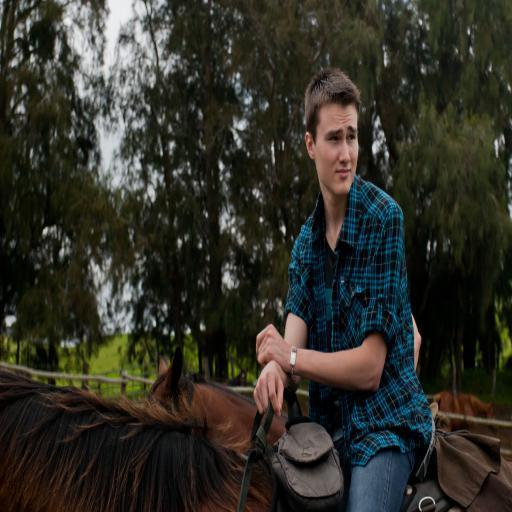horse: (0, 366, 275, 512), (147, 344, 449, 455)
